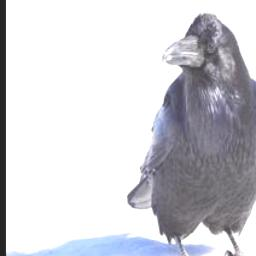Crow: (123, 9, 256, 256)
